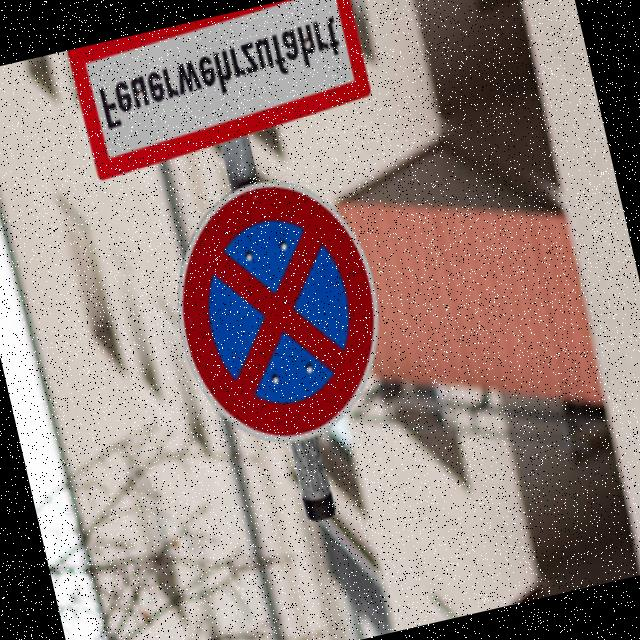no_parking: (140, 158, 410, 465)
